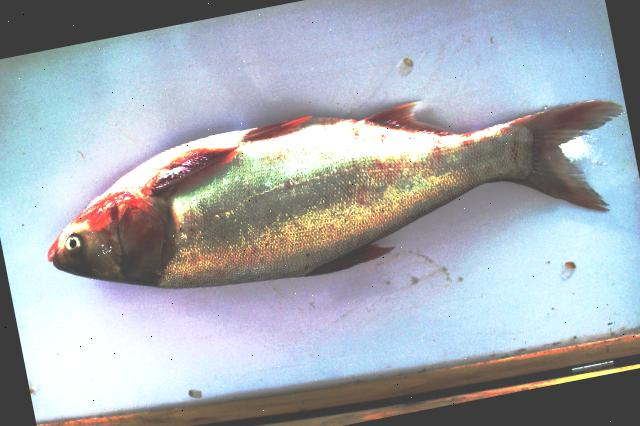Healthy Fish: (46, 100, 618, 287)
